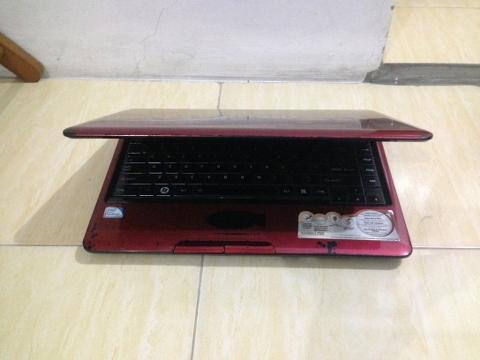pc: (64, 107, 433, 257)
